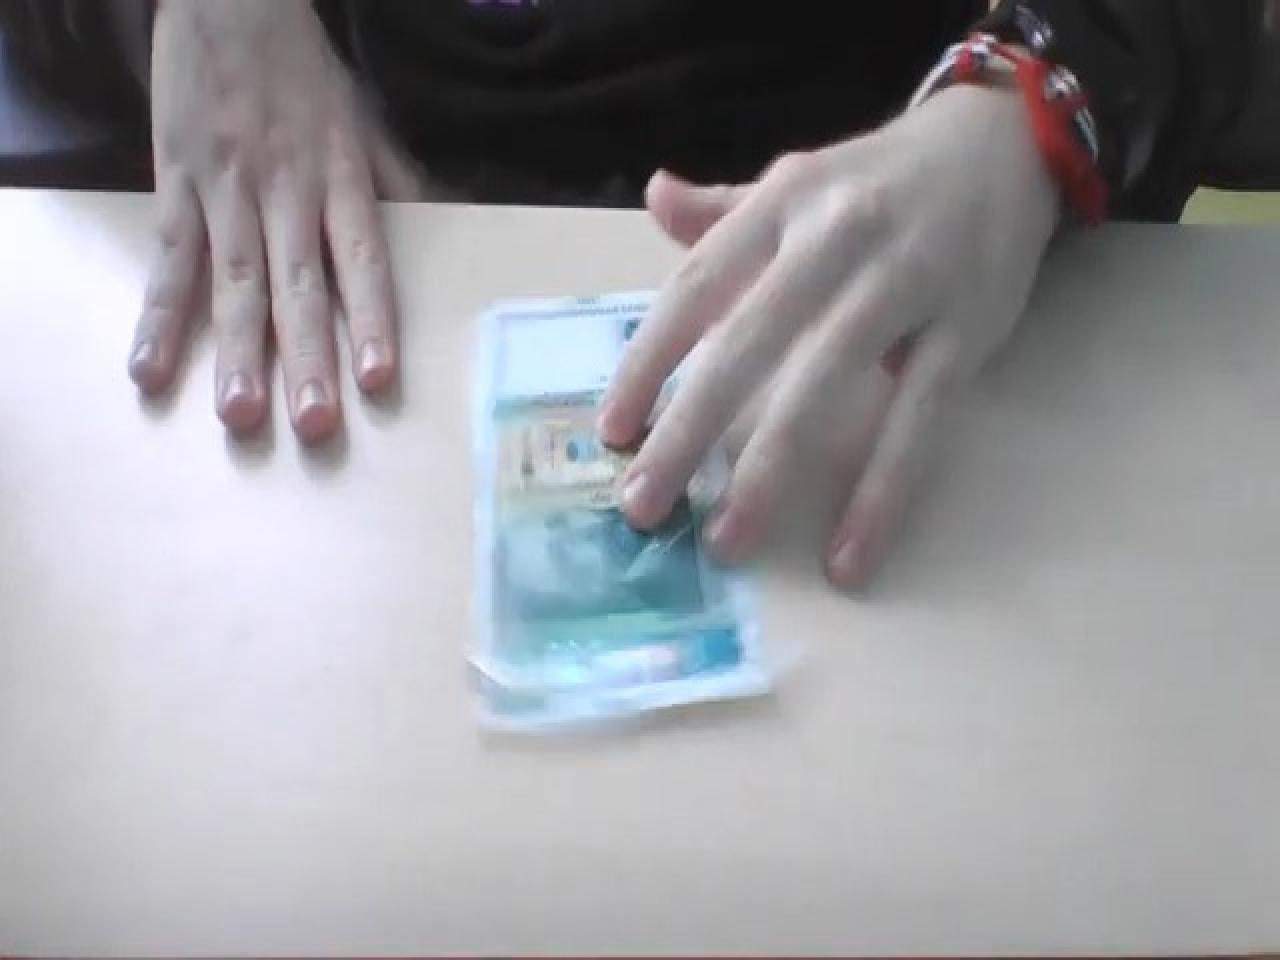100leva: (460, 285, 772, 733)
